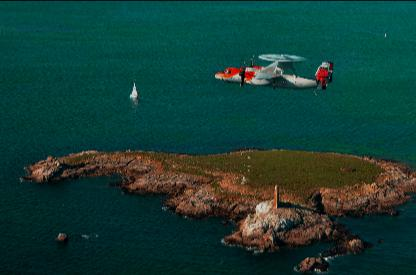C5: (215, 54, 333, 98)
